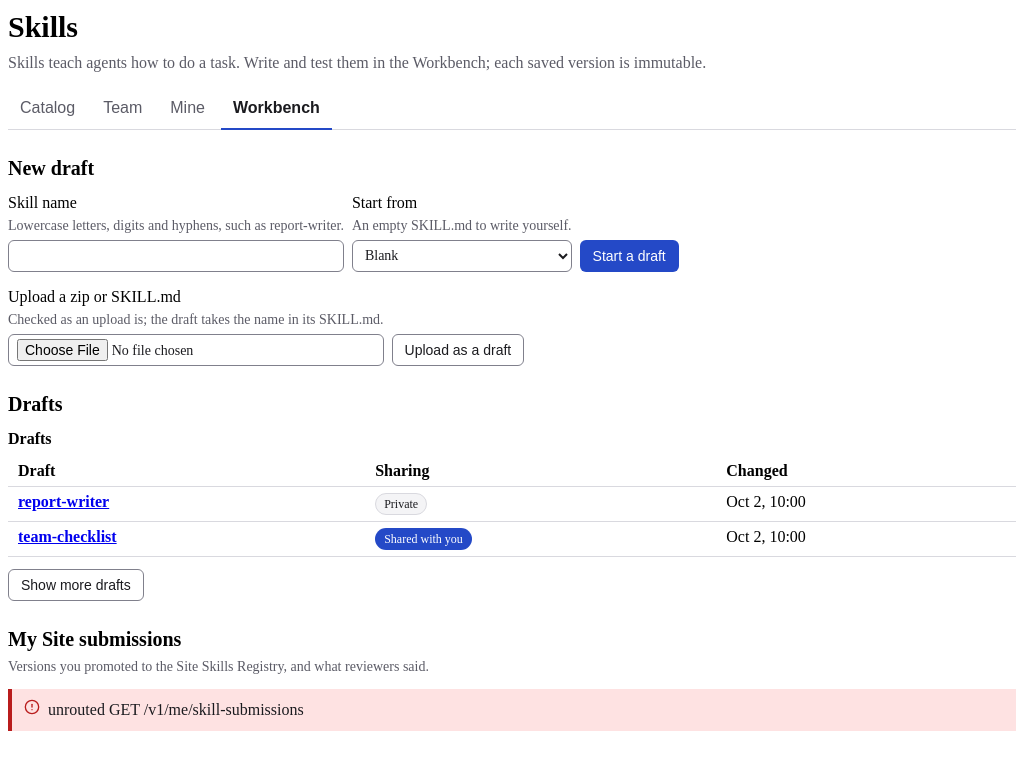
Test: Skills page › lists my drafts and the ones shared with me in the Workbench, paged
Expected: the text "Shared with you" is shown, [375,528,472,550]
Expected: the text "Private" is shown, [375,492,427,514]
Click the button "Show more drafts" at (76,584), box [8,568,144,600]
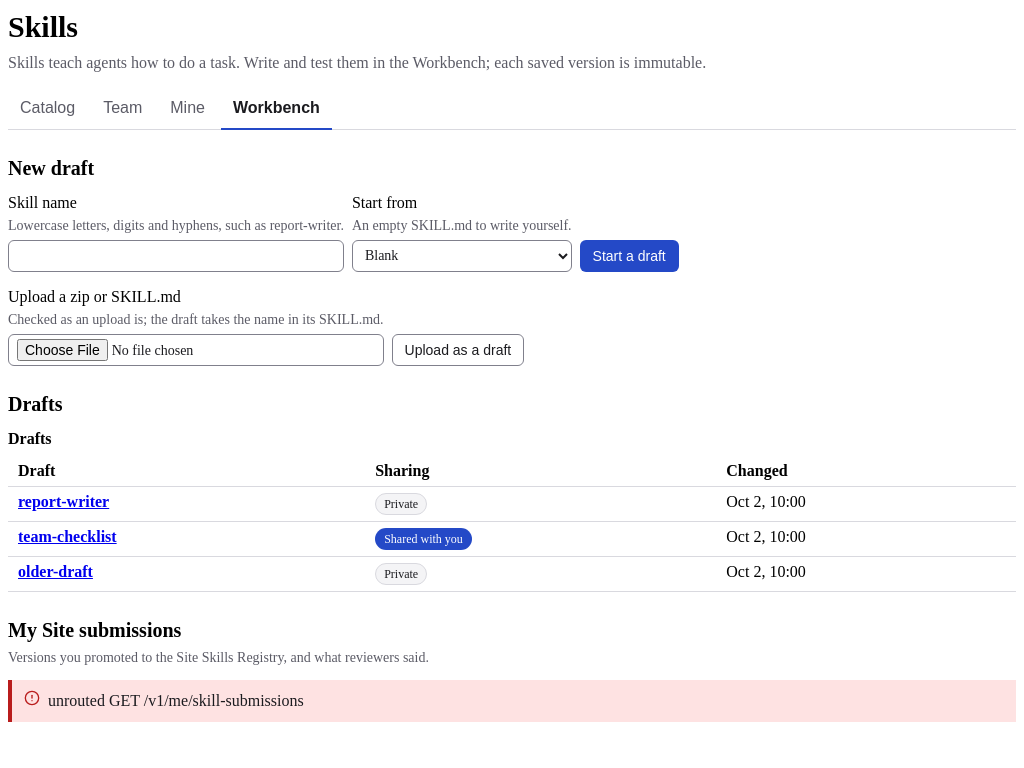
Result: the link "older-draft" is shown at [18,562,93,580]
Result: the button "Show more drafts" is gone
